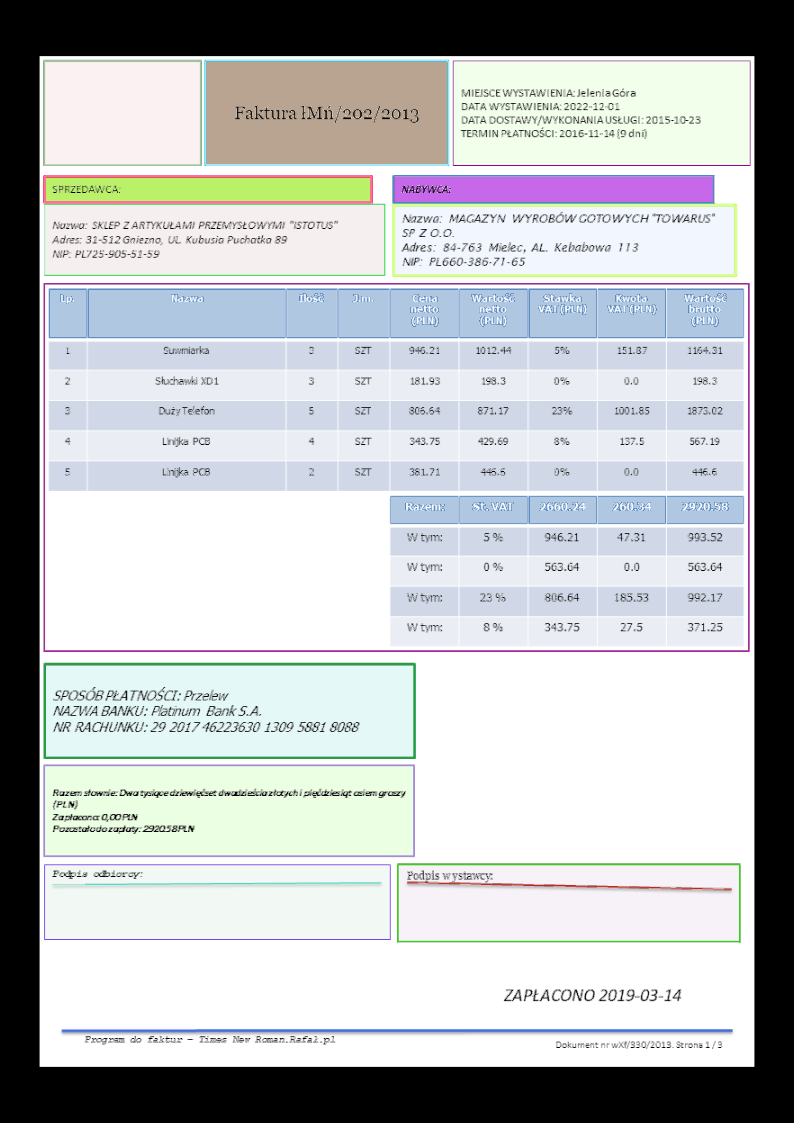Table: (47, 287, 744, 494), (389, 494, 744, 647)
TextBox: (400, 211, 716, 268), (51, 787, 408, 836), (51, 684, 361, 735), (458, 85, 703, 142), (50, 218, 340, 260), (231, 102, 420, 126), (501, 985, 682, 1004), (84, 1034, 336, 1047), (553, 1038, 725, 1051), (406, 868, 494, 885), (50, 868, 143, 881), (51, 182, 121, 196), (400, 182, 452, 197)
